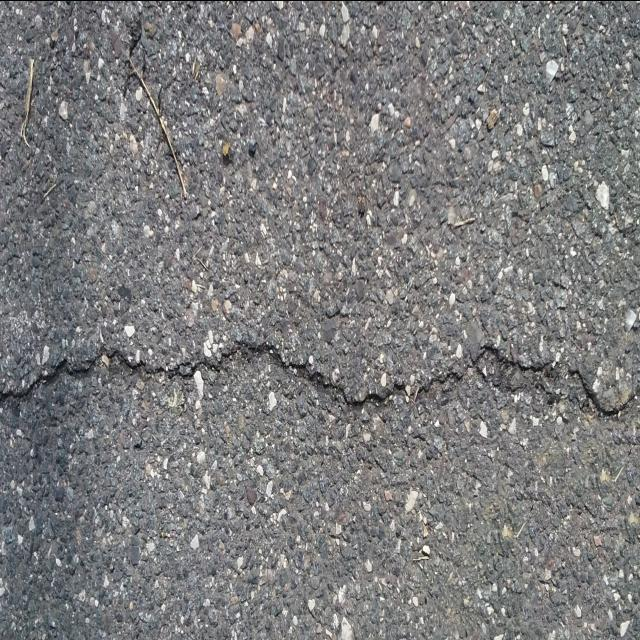Crack: (0, 335, 640, 436)
